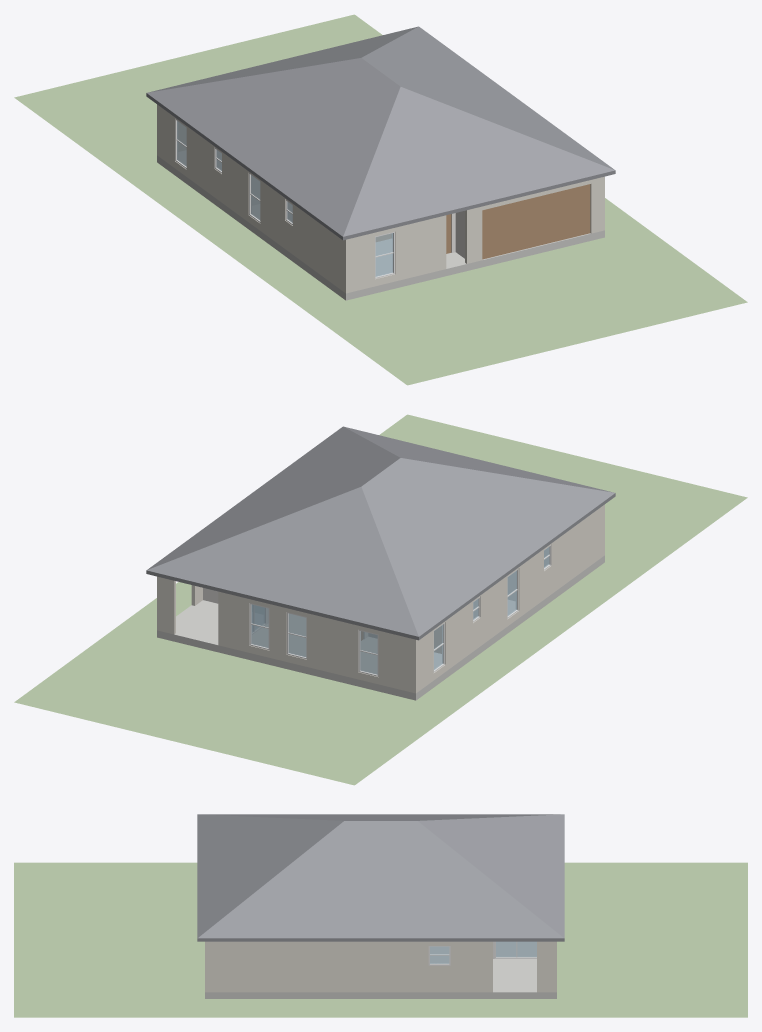
The picture shows the model from 3 angles, top to bottom: view 1: azimuth 30°, elevation 25°; view 2: azimuth 150°, elevation 25°; view 3: azimuth 270°, elevation 25°; orthographic projection. The views are drawn at different scales.
Visible parts, largest first — view 1: Lot, Hip roof, Wall ext-left, Wall ext-front, Door GD, Floor First Floor, Window N01; view 2: Lot, Hip roof, Wall ext-back, Wall ext-left, Floor First Floor, Window N07, Window N08, Window N05; view 3: Lot, Hip roof, Wall ext-right, Floor First Floor, Door D13, Window N09.
Part boxes in pixels (x1,y1,x2,y2): Lot: (14,14,747,385); Hip roof: (146,26,615,240); Wall ext-left: (159,106,343,291); Wall ext-front: (344,176,604,293); Door GD: (482,184,590,259); Floor First Floor: (157,150,604,300); Window N01: (375,233,393,276); Lot: (14,414,747,785); Hip roof: (146,426,615,640); Wall ext-back: (157,576,417,693); Wall ext-left: (418,506,602,691); Floor First Floor: (157,555,604,700); Window N07: (288,613,306,657); Window N08: (251,604,268,647); Window N05: (360,631,377,674); Lot: (14,862,747,1017); Hip roof: (197,814,564,941); Wall ext-right: (208,941,553,992); Floor First Floor: (205,942,556,998); Door D13: (496,941,536,957); Window N09: (430,946,449,963).
Size of the model in its own units: 15.24 by 5.46 by 30.48.
